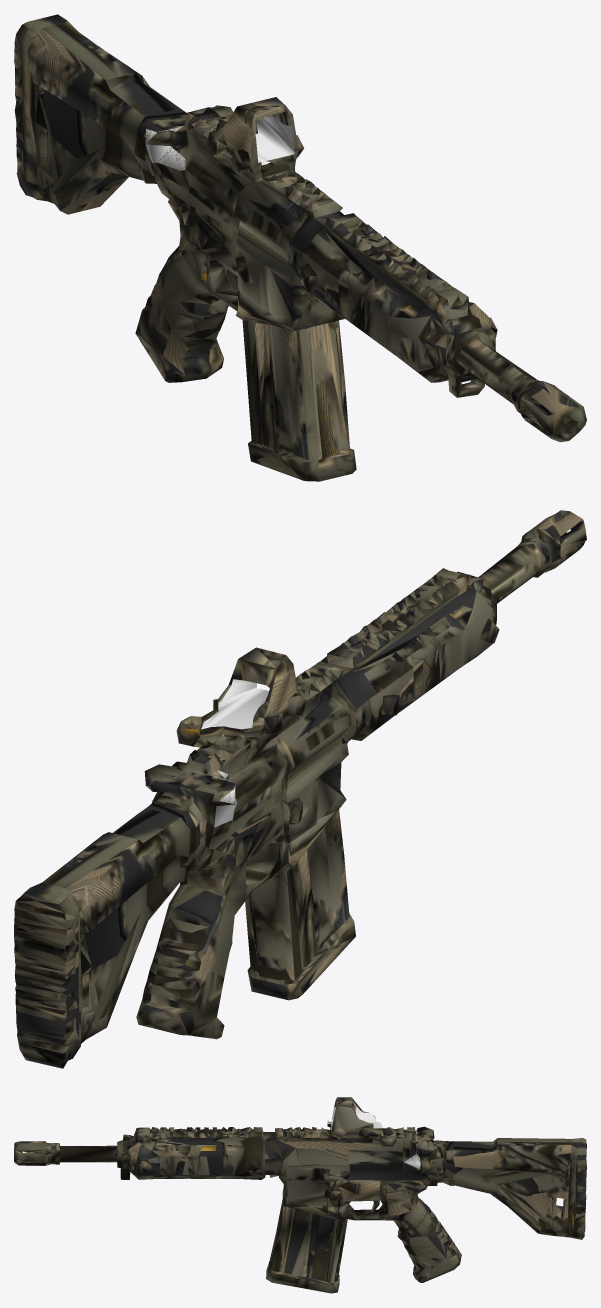
3 renders of one model, top to bottom at view 1: azimuth 30°, elevation 25°; view 2: azimuth 150°, elevation 25°; view 3: azimuth 270°, elevation 25°, orthographic. The views are drawn at different scales.
Parts seen in each view (by area): view 1: Body, Magazine, ChargingHandle; view 2: Body, Magazine; view 3: Body, Magazine, ChargingHandle.
Boxes of the visible parts, box(x1,y1,x2,y2) form: Body: box(14, 14, 586, 442); Magazine: box(235, 290, 356, 481); ChargingHandle: box(146, 105, 233, 169); Body: box(14, 510, 586, 1068); Magazine: box(245, 810, 355, 1000); Body: box(14, 1097, 586, 1282); Magazine: box(266, 1200, 353, 1293); ChargingHandle: box(406, 1126, 430, 1166).
Bounding box in the file's own units: 0.1291 × 0.4686 × 1.31.
